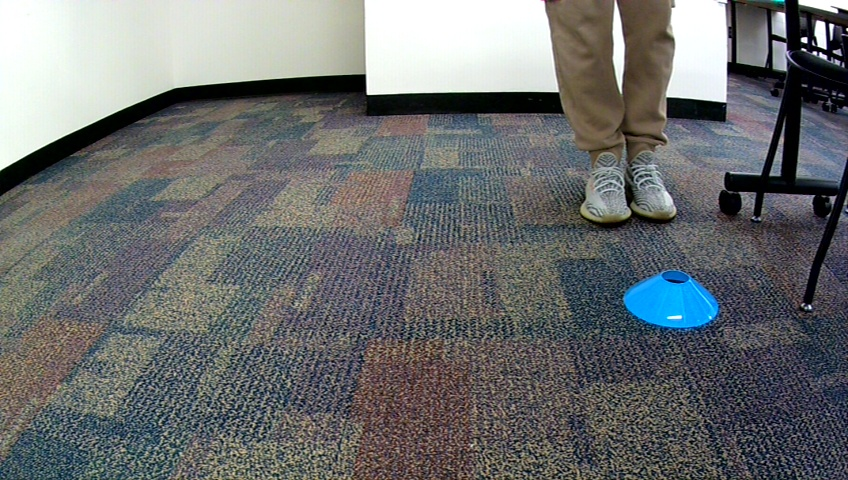cone: (621, 268, 721, 330)
